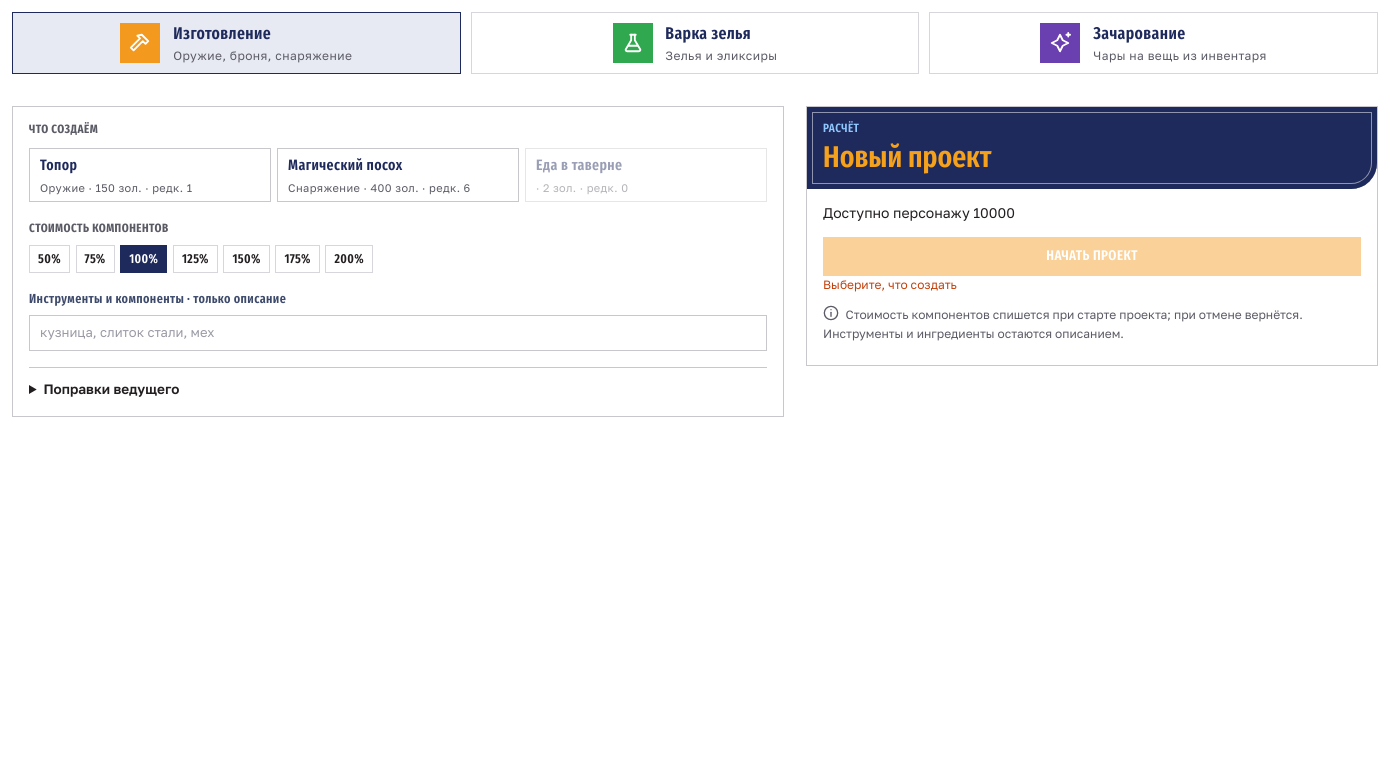
Test: Ремесло (ROT-CRAFT-01, ROT-ALCH-02, ROT-CRAFT-MAGIC-01) › shows a preview error and clears it when corrected input succeeds
Click the button "Топор Оружие · 150 зол. · редк. 1": (150, 175) [29,148,271,202]
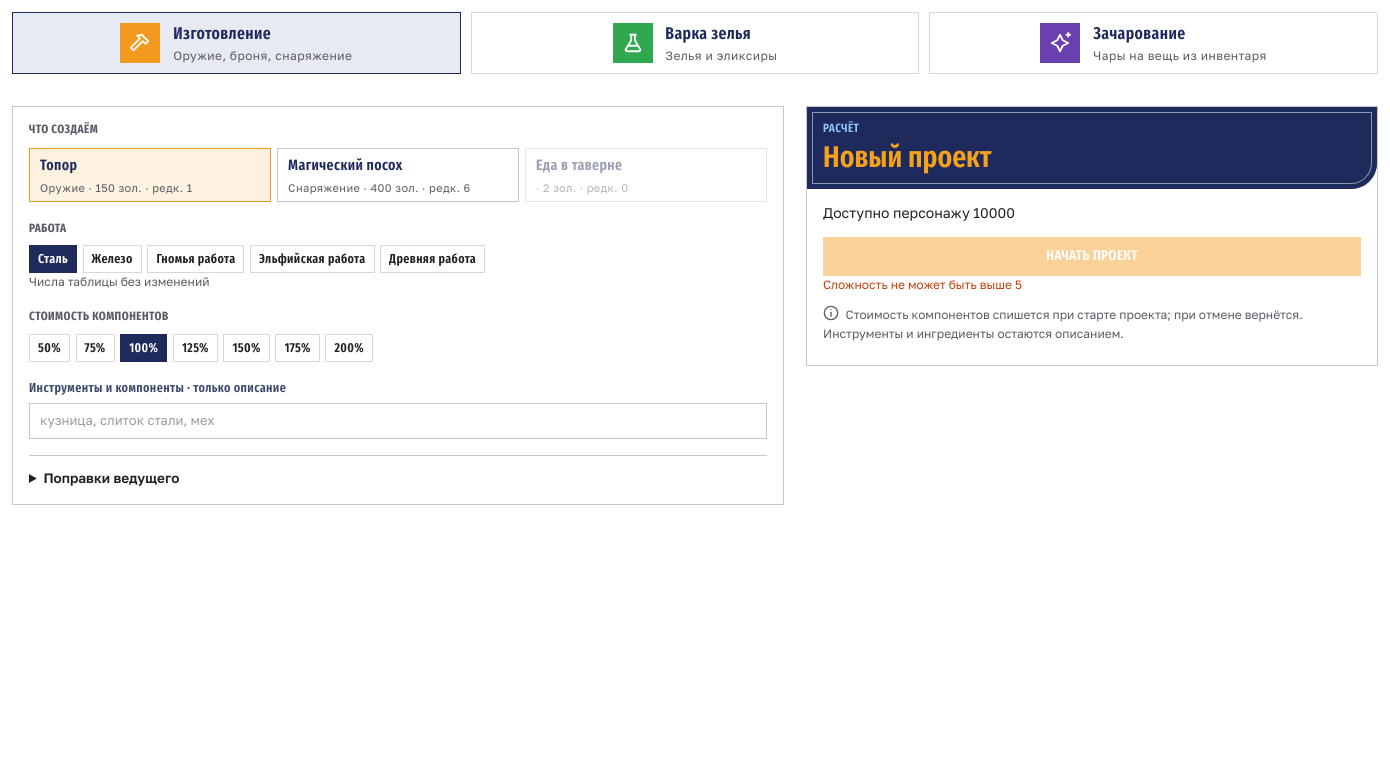
Expected: the button "Начать проект" is disabled, [823,237,1361,276]
Now the text "Сложность не может быть выше 5" is shown, box [823,277,1022,292]
Click the button "Железо": (112, 259) [83,245,142,273]
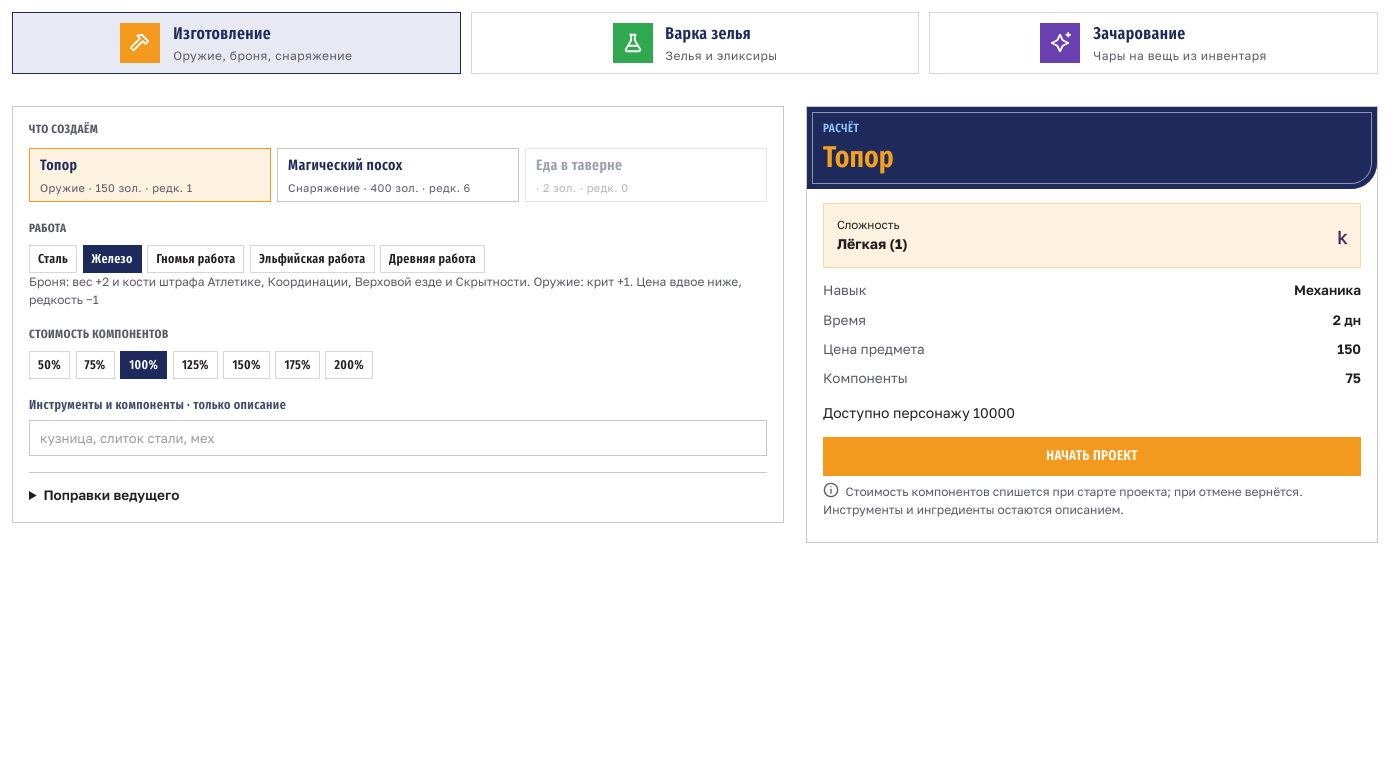
Now the button "Начать проект" is enabled, box [823,437,1361,476]
Now the text "Сложность не может быть выше 5" is gone
